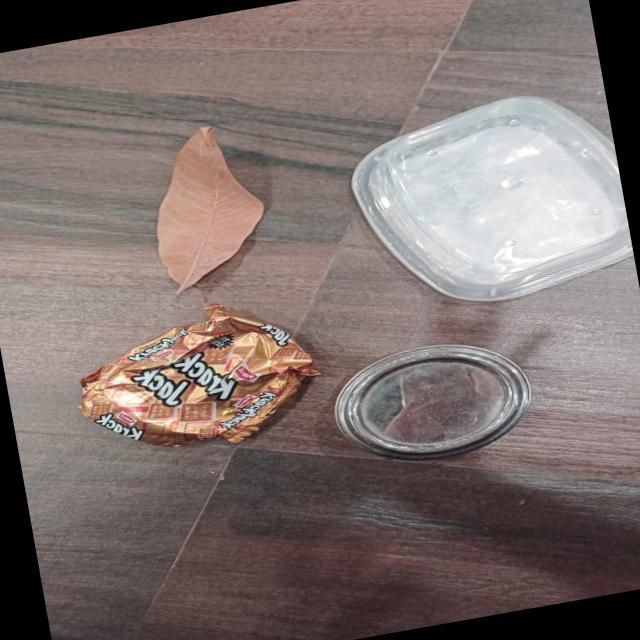Leaf-Bio: (116, 104, 290, 304)
Plastic-NonBio: (340, 85, 636, 322), (49, 287, 336, 476)
Steel-NonBio: (306, 324, 538, 476)
